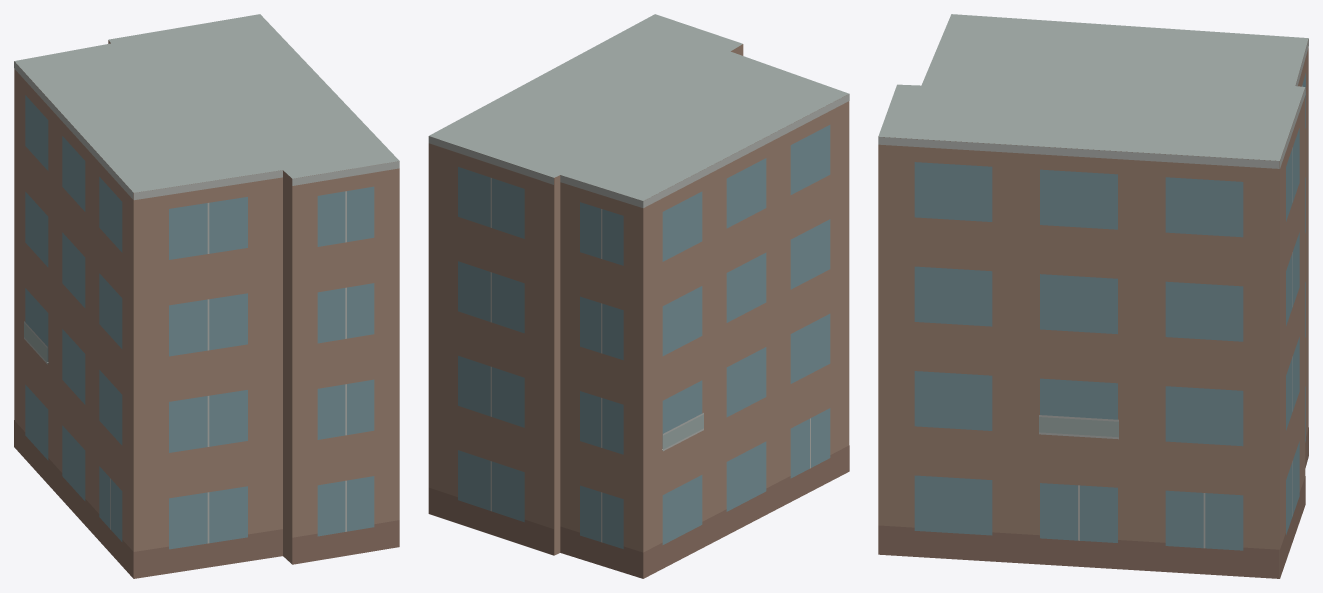
Rendered from survey-upis-32537075.glb.
3 views of the same model, side by side, from view 1: azimuth 30°, elevation 25°; view 2: azimuth 150°, elevation 25°; view 3: azimuth 270°, elevation 25° (orthographic). The views are drawn at different scales.
Parts seen in each view (by area): view 1: survey-upis-32537075.tmp; view 2: survey-upis-32537075.tmp; view 3: survey-upis-32537075.tmp.
Part boxes in pixels (x1,y1,x2,y2): survey-upis-32537075.tmp: (14, 14, 399, 578); survey-upis-32537075.tmp: (428, 14, 849, 578); survey-upis-32537075.tmp: (878, 14, 1308, 578).
Size of the model in its own units: 9.66 by 12.8 by 11.96.
